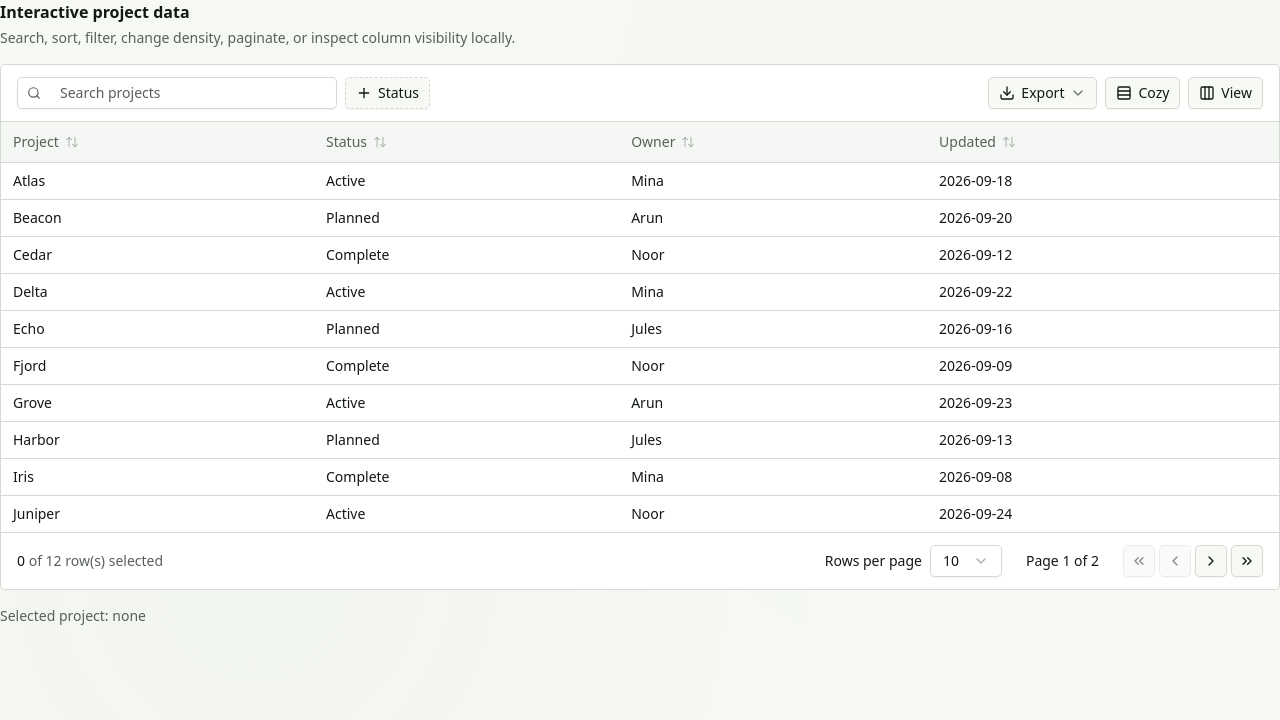
Test case: CAT005 data components › searches, sorts, and selects a data-table row
Type "Juniper" into the field labelled "Search projects" at [193, 93], box x1=50 y1=83 x2=336 y2=103
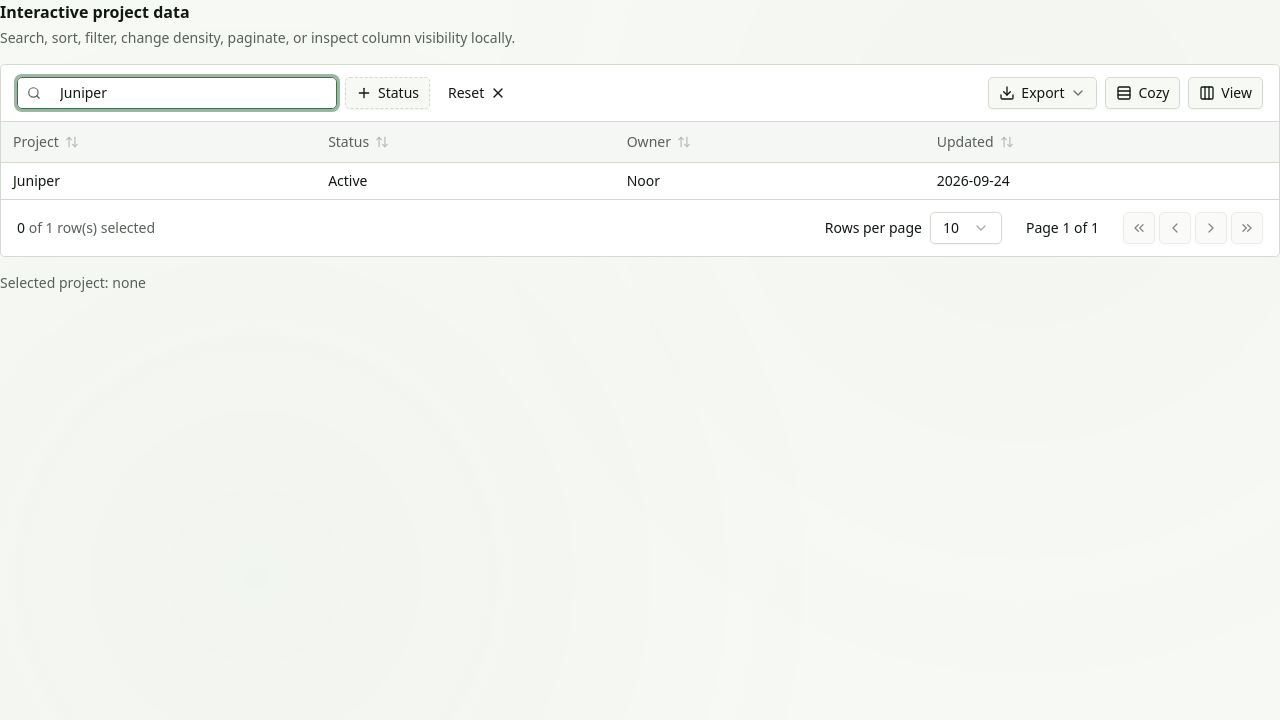
Expected: the text "Juniper" is shown, x1=1 y1=162 x2=316 y2=198
Now the text "Atlas" is gone
Clear the field named "Search projects" at [193, 93], box x1=50 y1=83 x2=336 y2=103
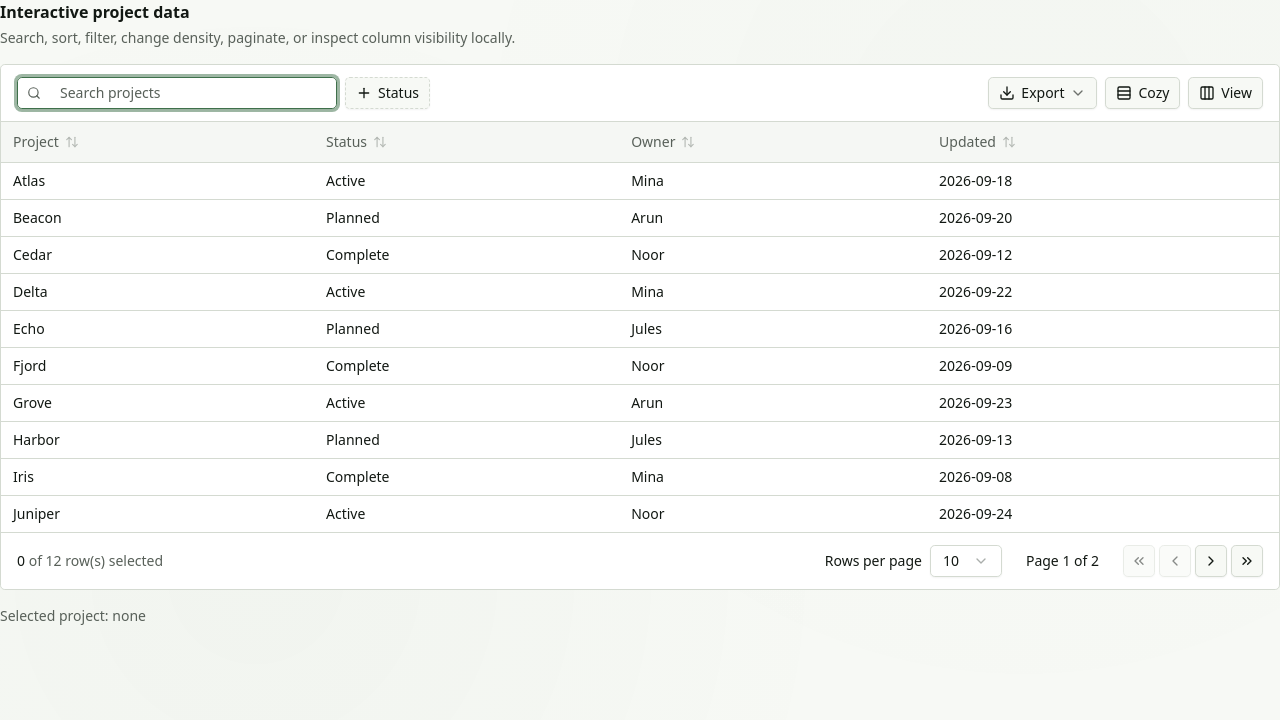
Now the text "Atlas" is shown, box x1=1 y1=162 x2=314 y2=199
Click the button with aria-label "Sort by Project" at [46, 142], box x1=5 y1=128 x2=87 y2=156
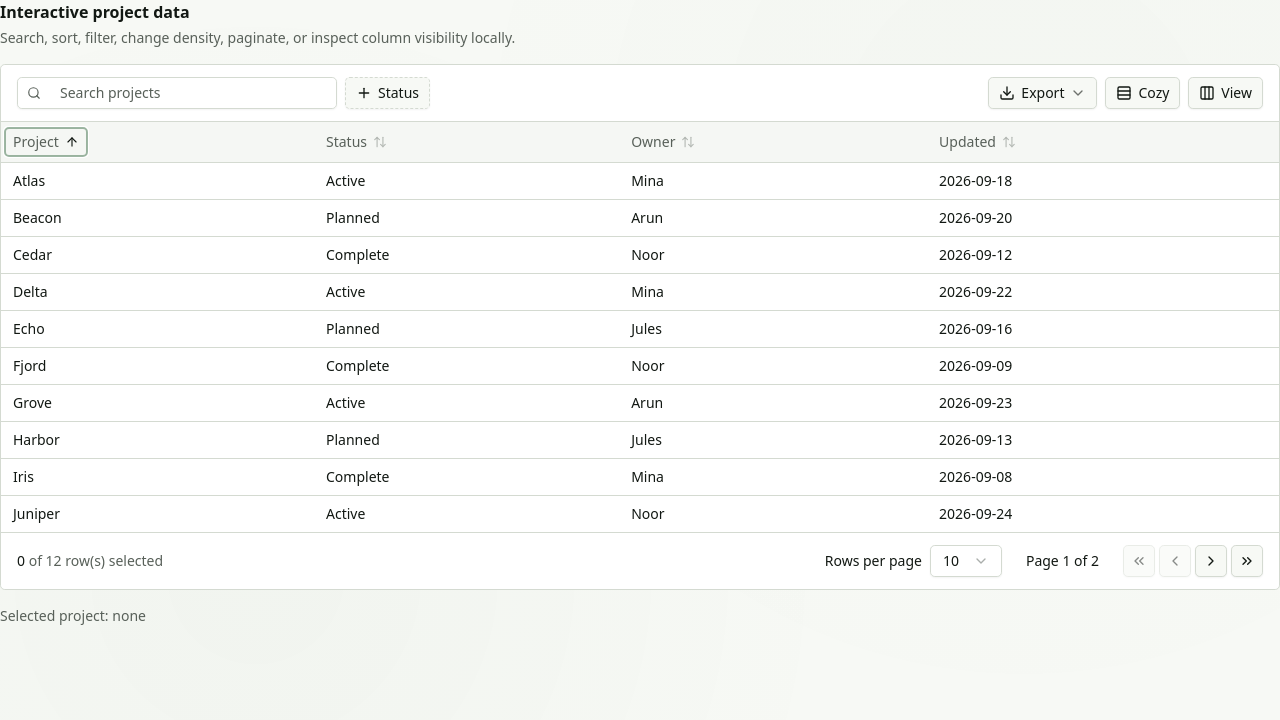
Click the text "Atlas" at [158, 180], box x1=1 y1=162 x2=314 y2=199
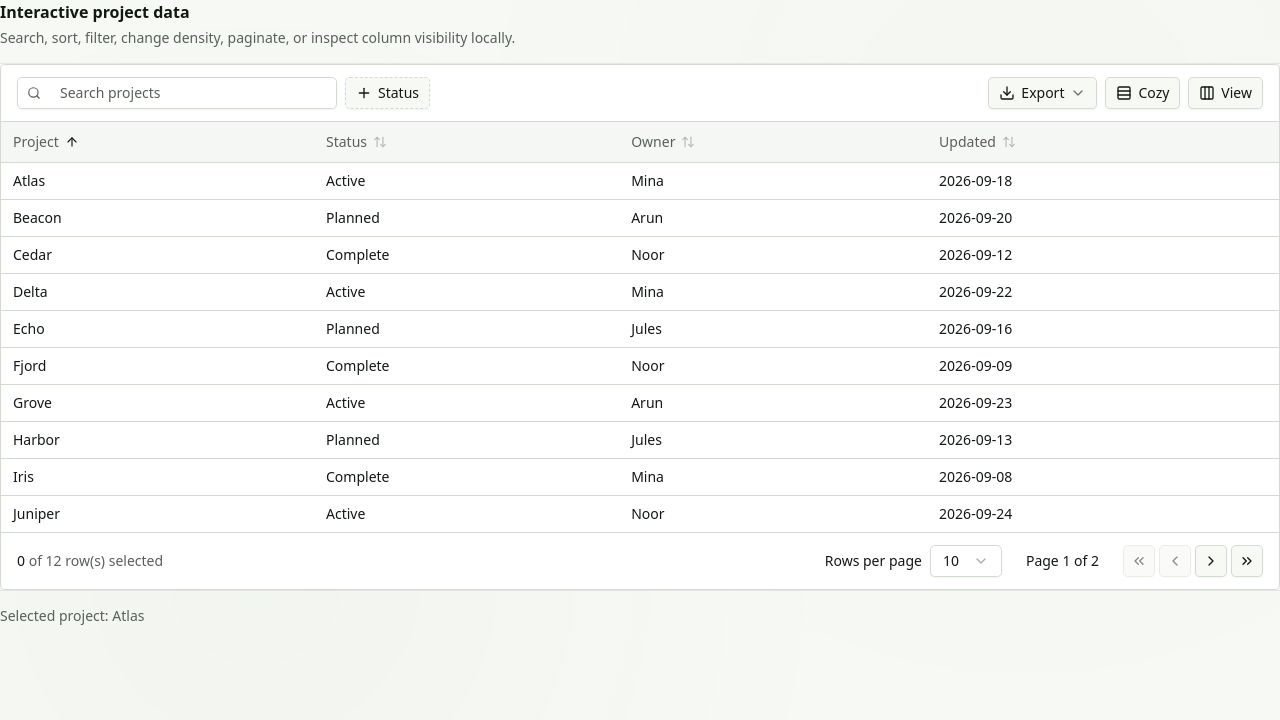
Now the text "Selected project: Atlas" is shown, box x1=0 y1=606 x2=144 y2=624
